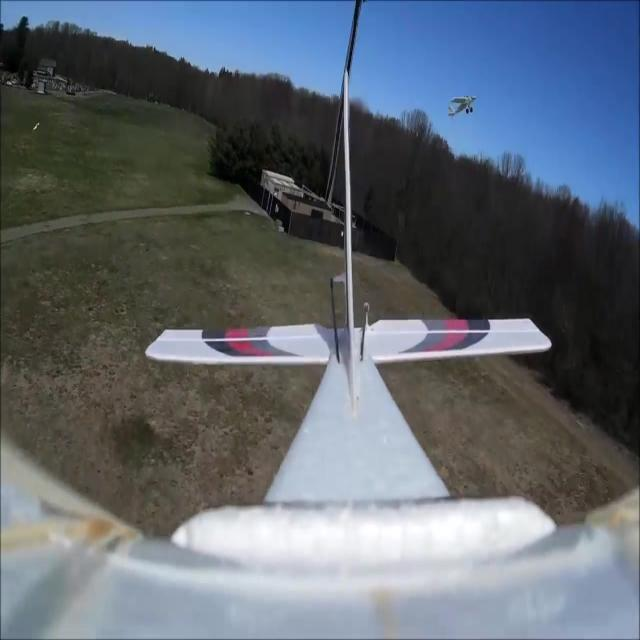iha: (446, 28, 477, 57)
